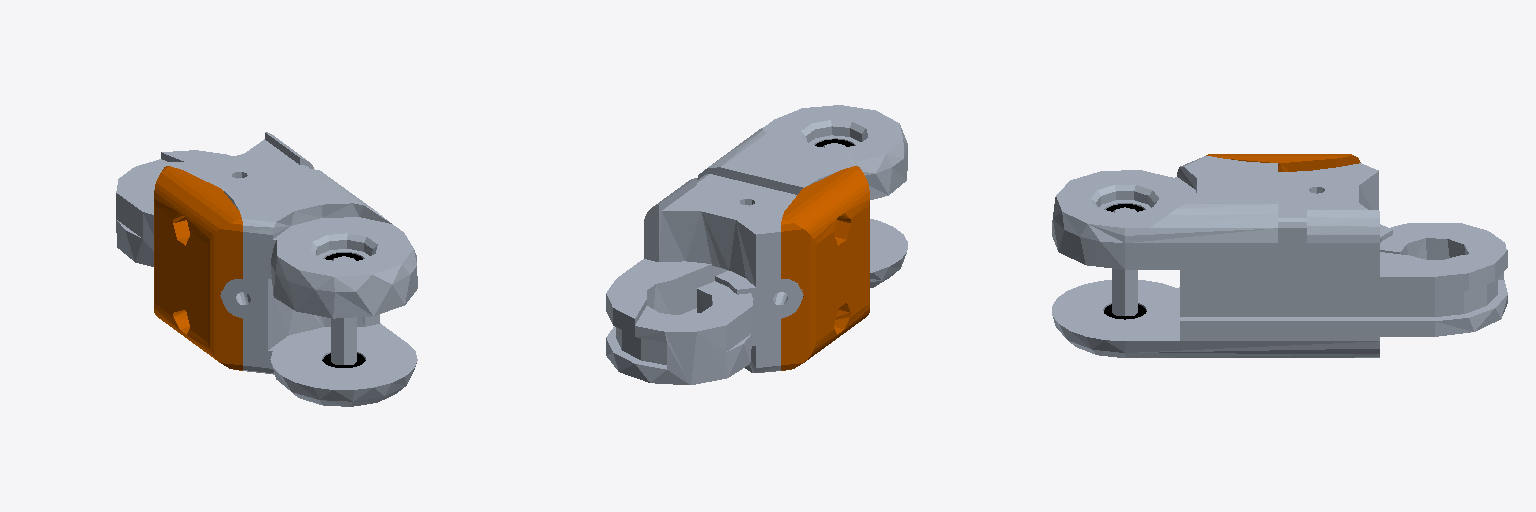
The model's file is fingerpart_r.obj.
3 renders of one model, left to right at view 1: azimuth 30°, elevation 25°; view 2: azimuth 150°, elevation 25°; view 3: azimuth 270°, elevation 25°, orthographic.
Bounding box in the file's own units: 0.0175 × 0.017 × 0.0464.